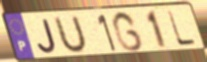1: (146, 9, 170, 51), (96, 13, 118, 52)
G: (110, 10, 145, 53)
J: (36, 17, 58, 55)
L: (166, 10, 199, 48)
U: (53, 14, 88, 55)
